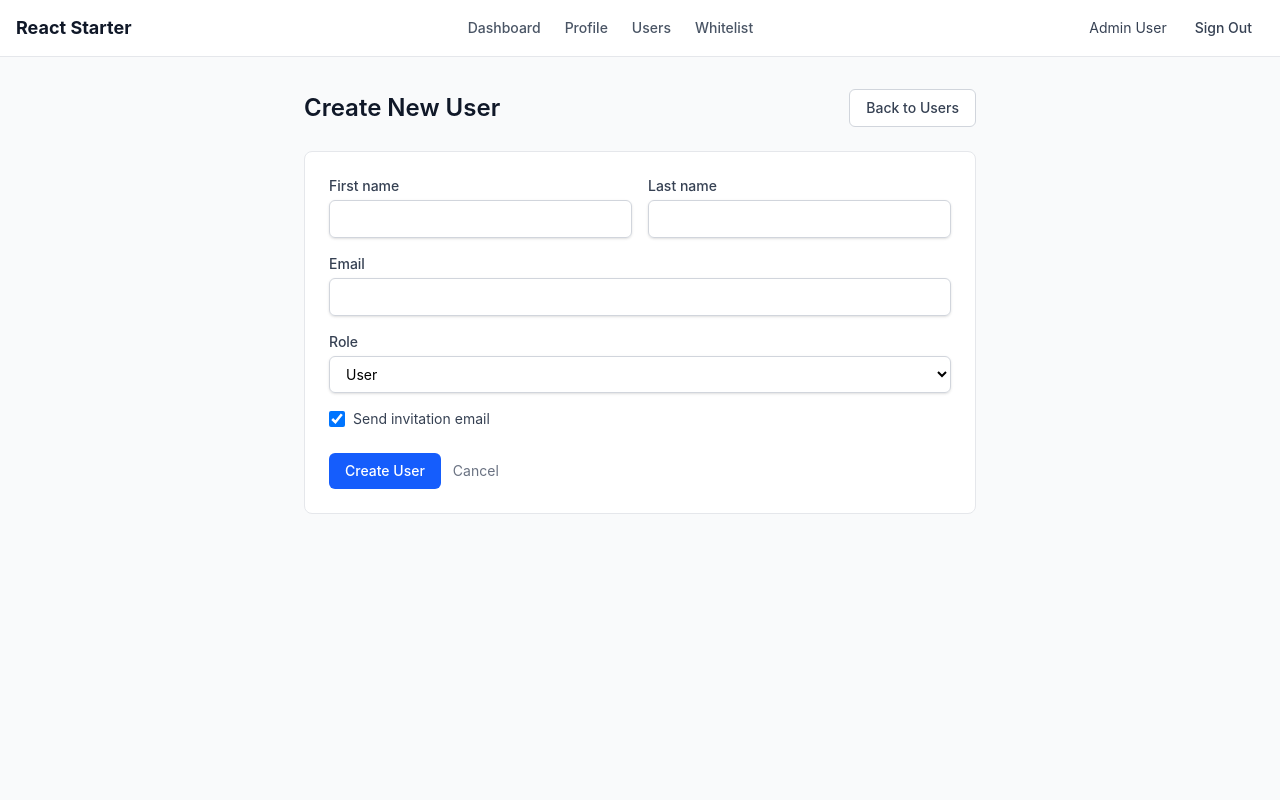
CreateUserPage › shows validation errors on empty submit
Click the button "Create User". click: (385, 471)
box: [329, 453, 441, 489]
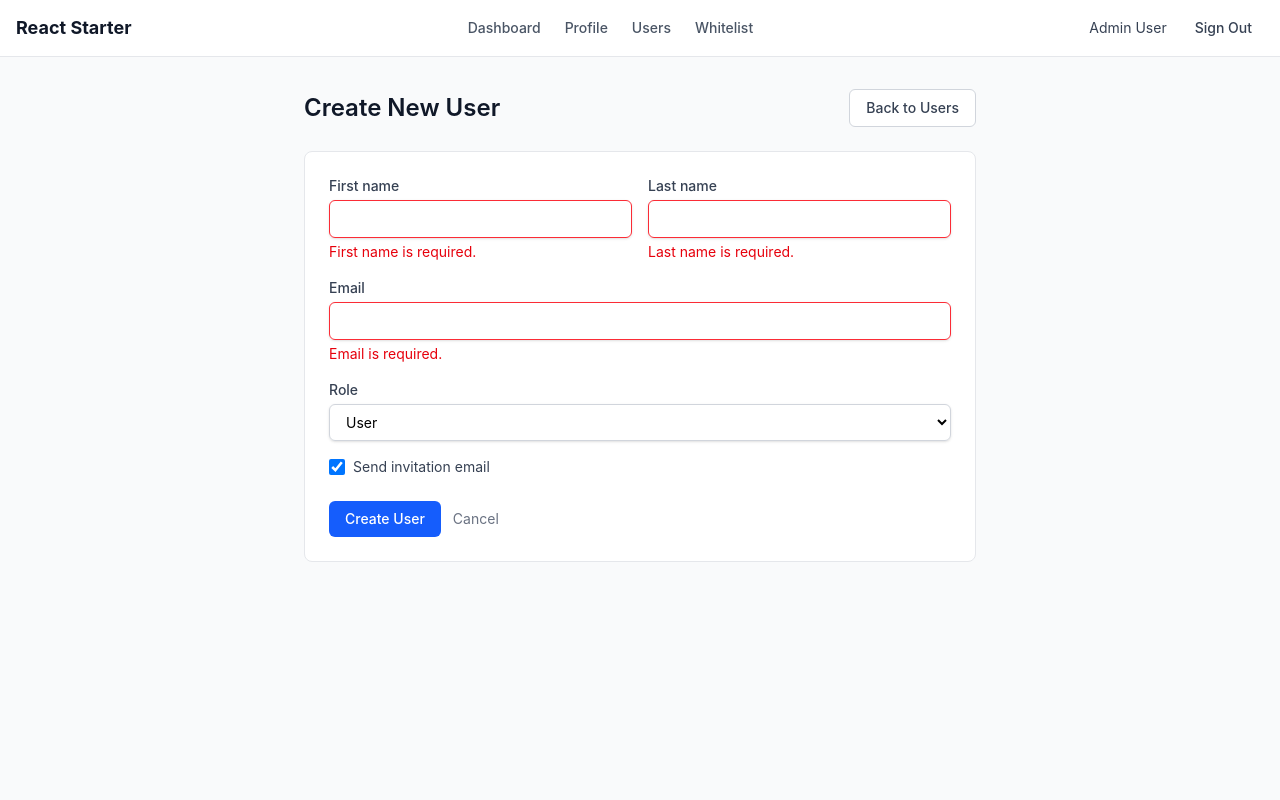
Check: the text "First name is required." is shown, box [329, 243, 476, 260]
Check: the text "Last name is required." is shown, box [648, 243, 794, 260]
Check: the text "Email is required." is shown, box [329, 345, 442, 362]
